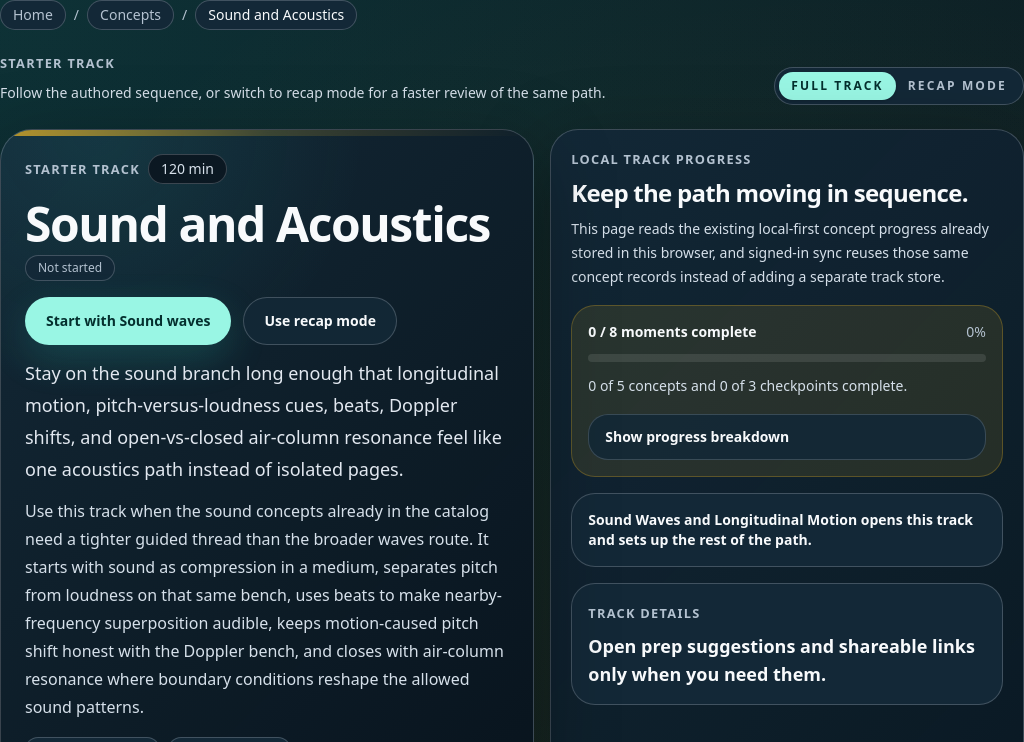
Test: StarterTrackDetailPage › uses the waves track as authored prep for the bounded sound branch
The width and height of the screenshot is (1024, 742).
Check: the heading "Sound and Acoustics" is shown, box [25, 200, 490, 247]
Step 1. Click the text "Track details" → [644, 613], box [588, 604, 700, 622]
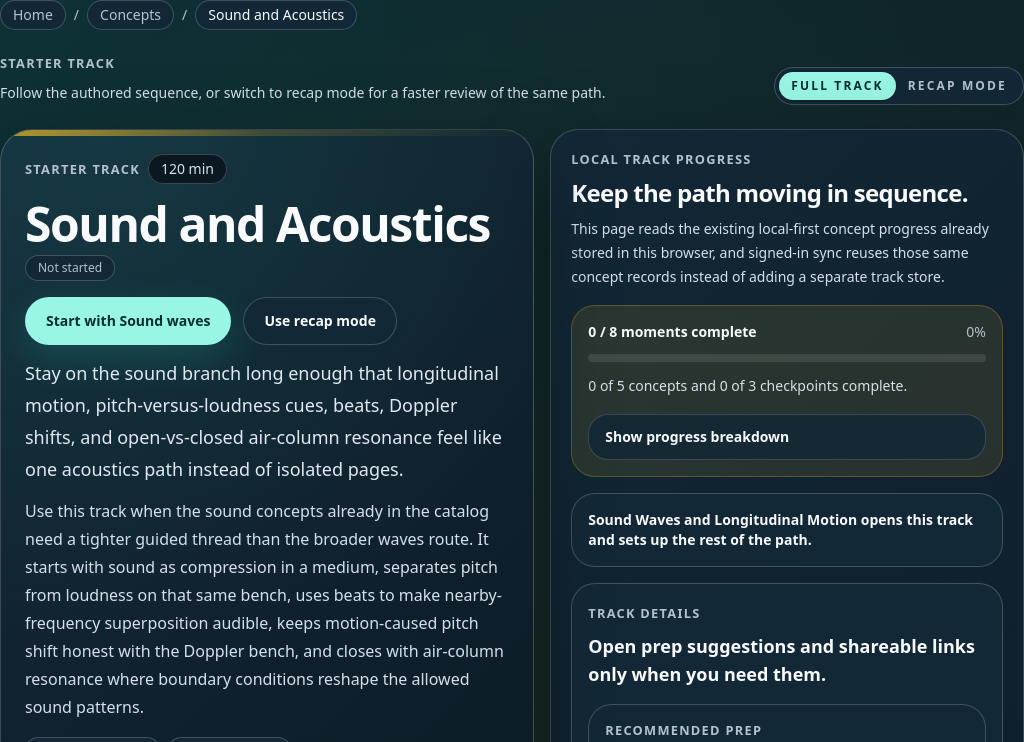
Check: the text "Recommended prep" is shown, box [605, 721, 762, 739]
